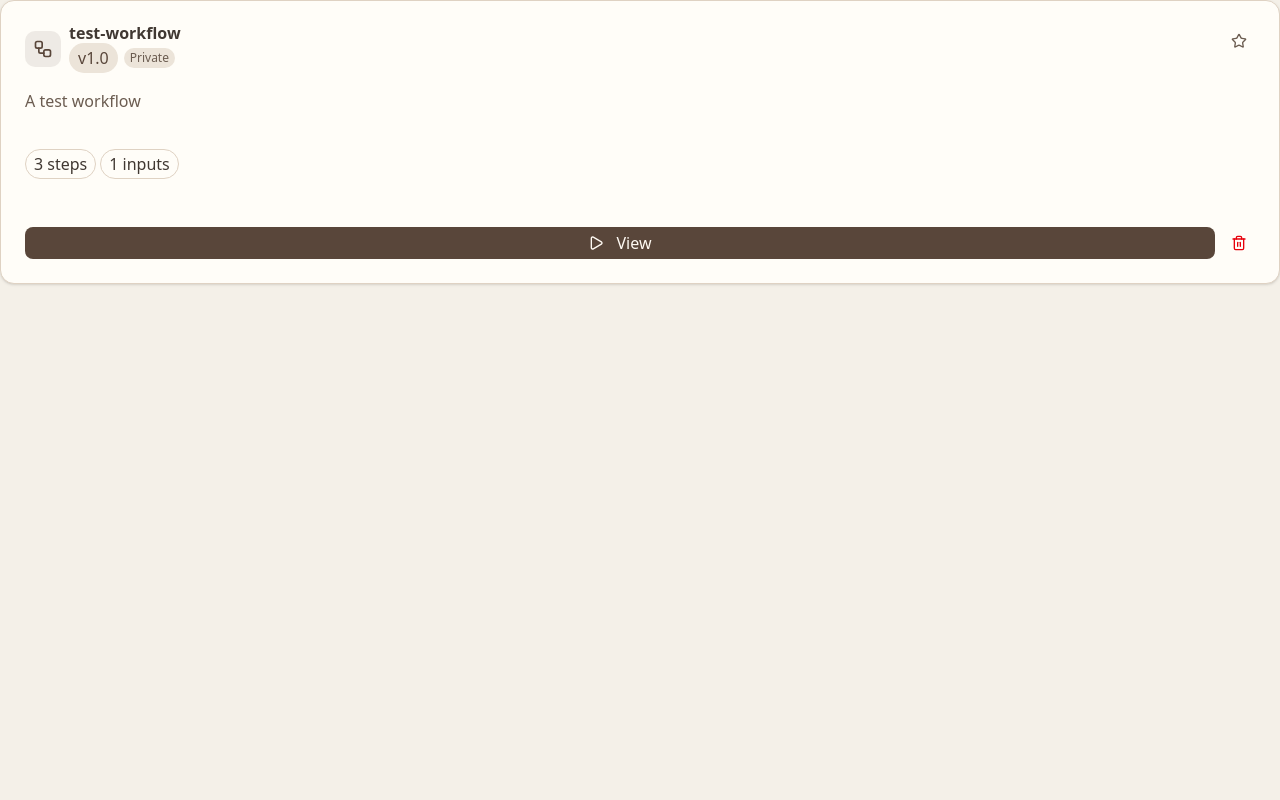
WorkflowCard › clicking cancel in delete dialog closes it
Click the button with test id "workflow-delete-button": (1239, 243) [1223,227,1255,259]
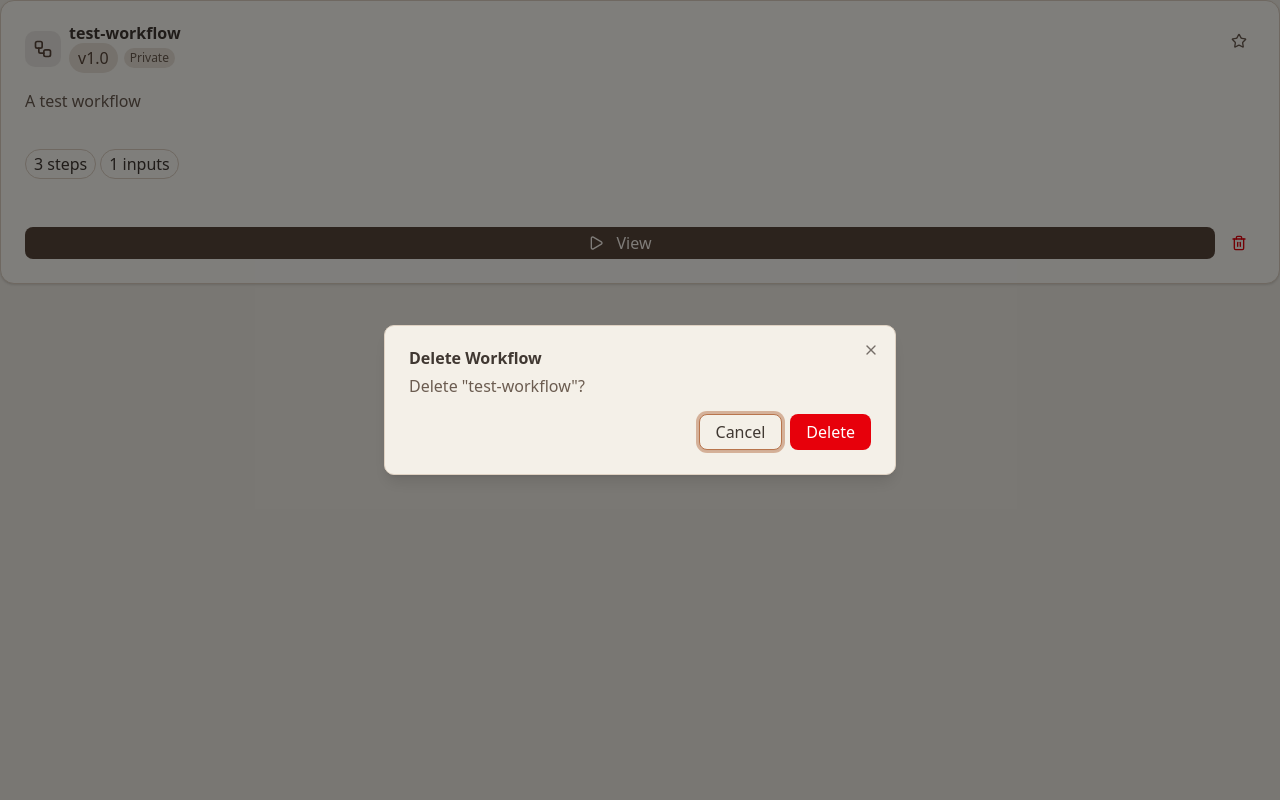
Expected: the dialog is shown, [384,325,896,475]
Click the button "Cancel": (740, 432) [698,414,782,450]
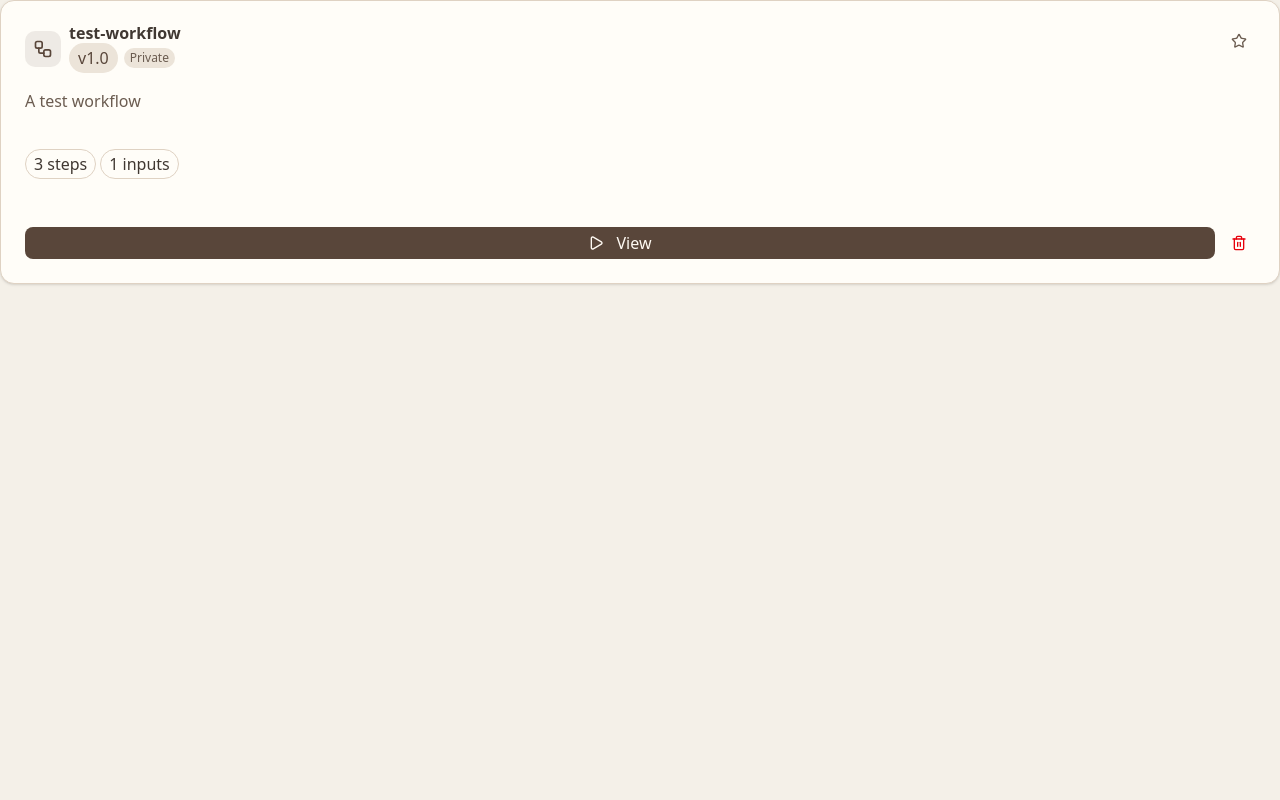
Expected: the dialog is gone
